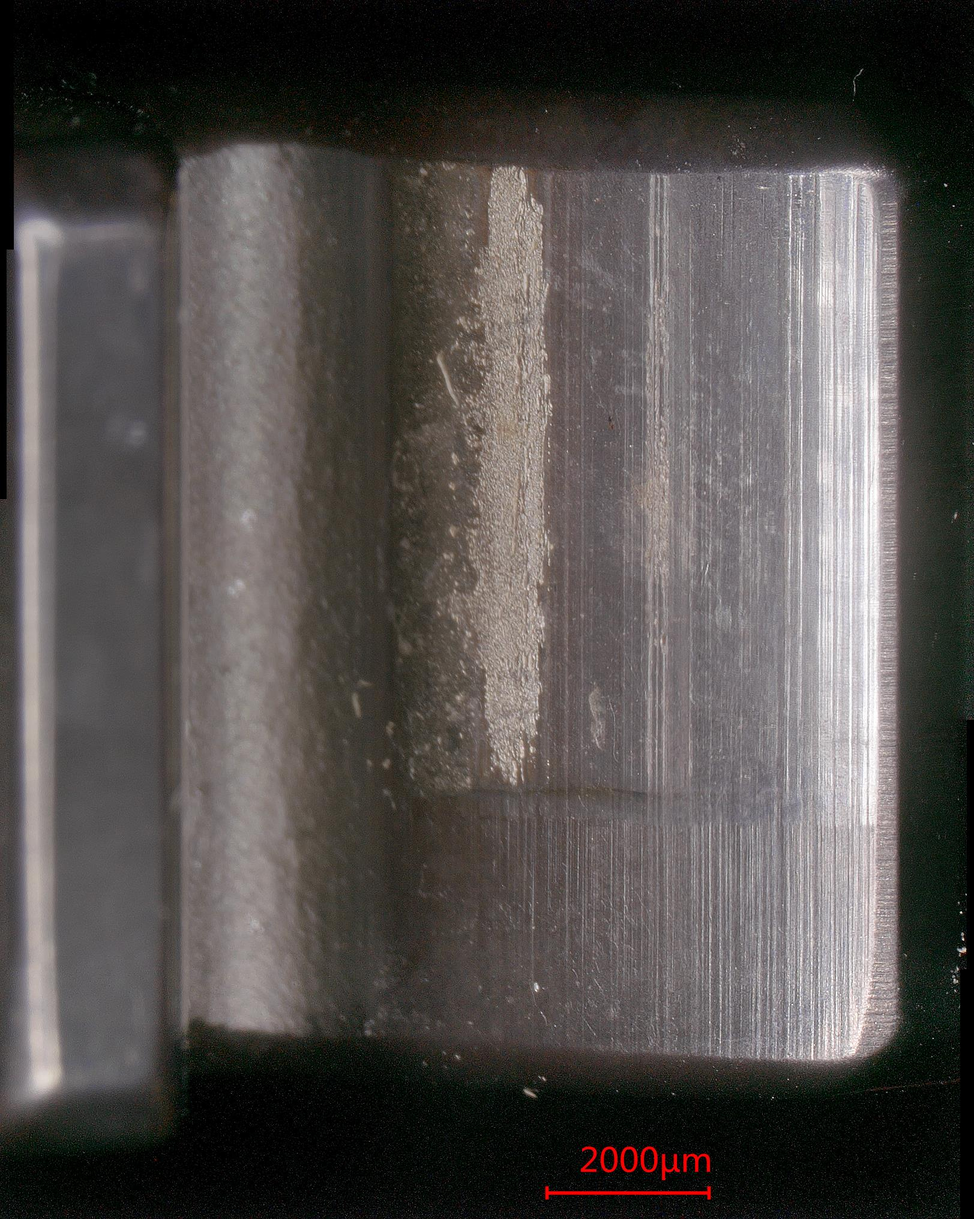Abrasion: (366, 168, 897, 1046)
